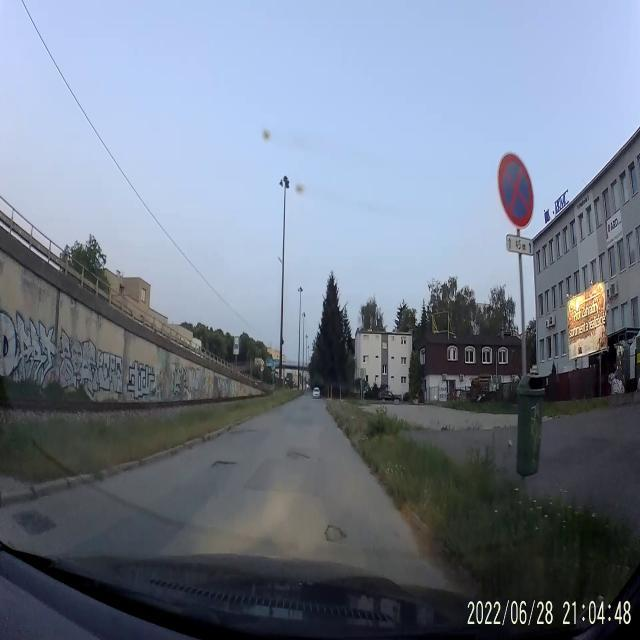Manhole: (11, 496, 56, 542)
Pothole: (322, 520, 348, 546), (286, 446, 310, 465), (210, 456, 240, 470)
